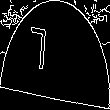L_S: (45, 28, 65, 82)
